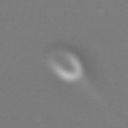normal: (79, 76, 128, 119)
